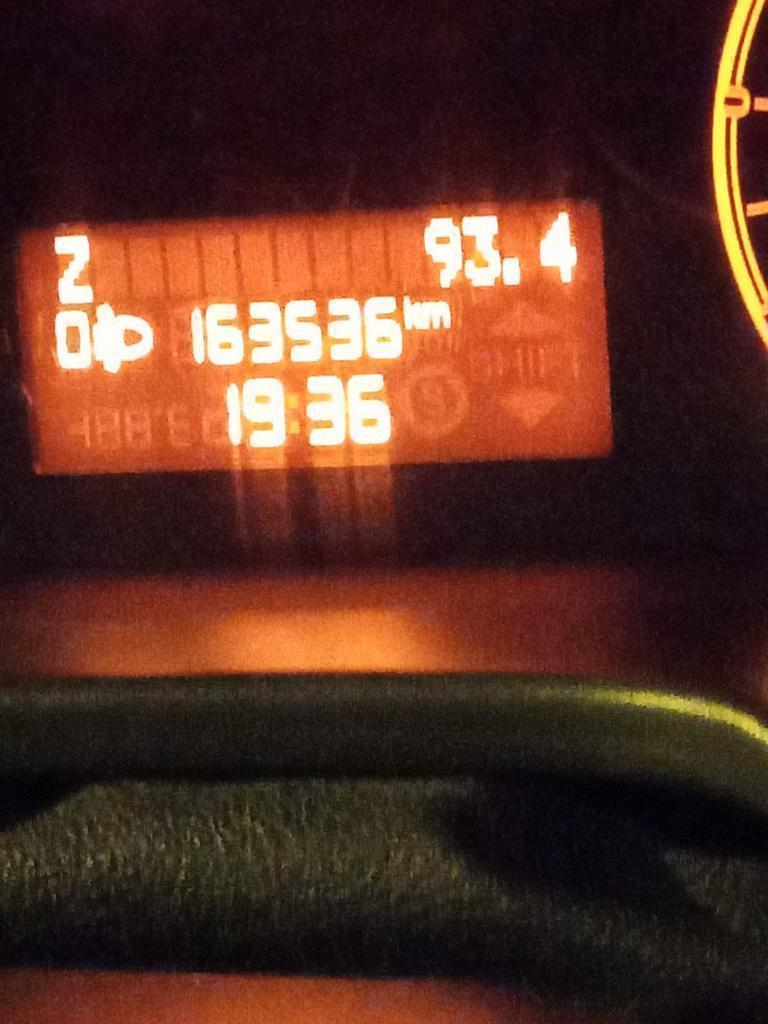,: (500, 251, 525, 291)
0: (54, 309, 91, 370)
1: (223, 378, 242, 449), (188, 302, 205, 367)
3: (462, 214, 503, 288), (305, 373, 346, 446), (247, 299, 284, 364), (327, 296, 362, 360)
4: (537, 209, 577, 284)
5: (285, 296, 323, 363)
6: (347, 371, 393, 447), (206, 301, 244, 366), (364, 294, 402, 359)
9: (243, 375, 288, 450), (423, 215, 463, 290)
X: (49, 230, 101, 305), (286, 387, 304, 442), (421, 301, 454, 330), (401, 292, 420, 334)
odometer: (8, 191, 624, 482)
